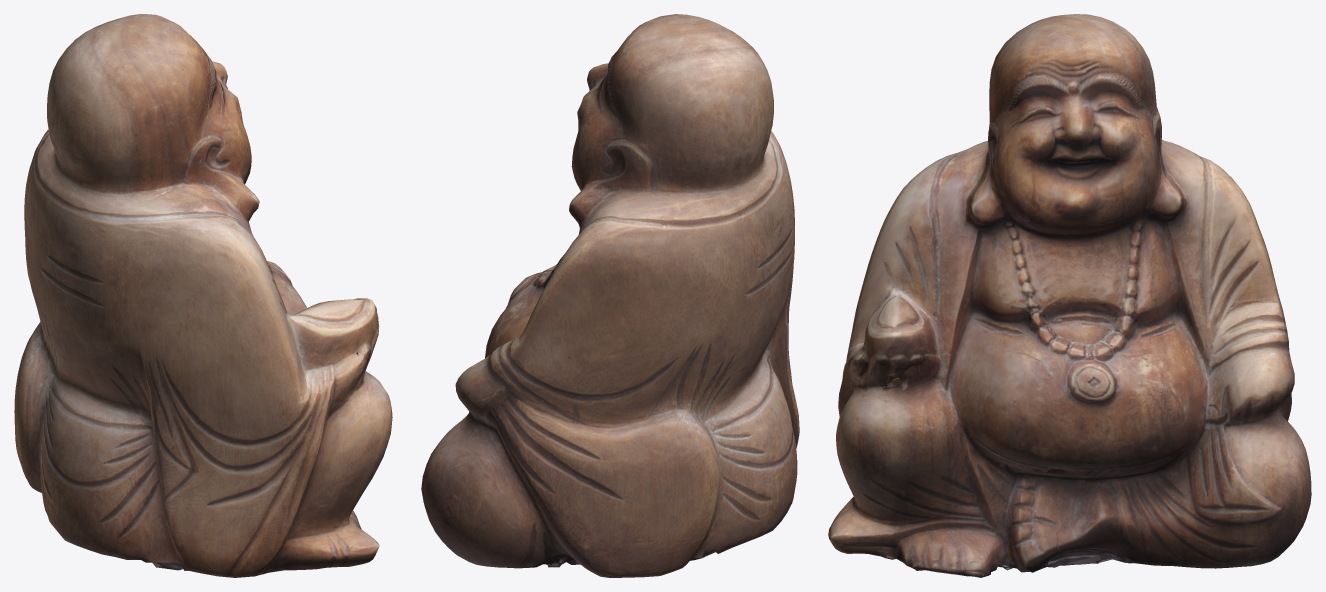
File: laughing_buddha_hotei.glb
3 renders of one model, left to right at view 1: azimuth 30°, elevation 25°; view 2: azimuth 150°, elevation 25°; view 3: azimuth 270°, elevation 25°, orthographic.
Parts seen in each view (by area): view 1: Object_3; view 2: Object_3; view 3: Object_3.
Boxes of the visible parts, x1=… form: Object_3: x1=14, y1=14, x2=392, y2=577; Object_3: x1=421, y1=14, x2=799, y2=577; Object_3: x1=828, y1=14, x2=1311, y2=577.
Bounding box in the file's own units: 1.24 × 2.31 × 2.09.
Materials: 1 (1 with a texture image).
